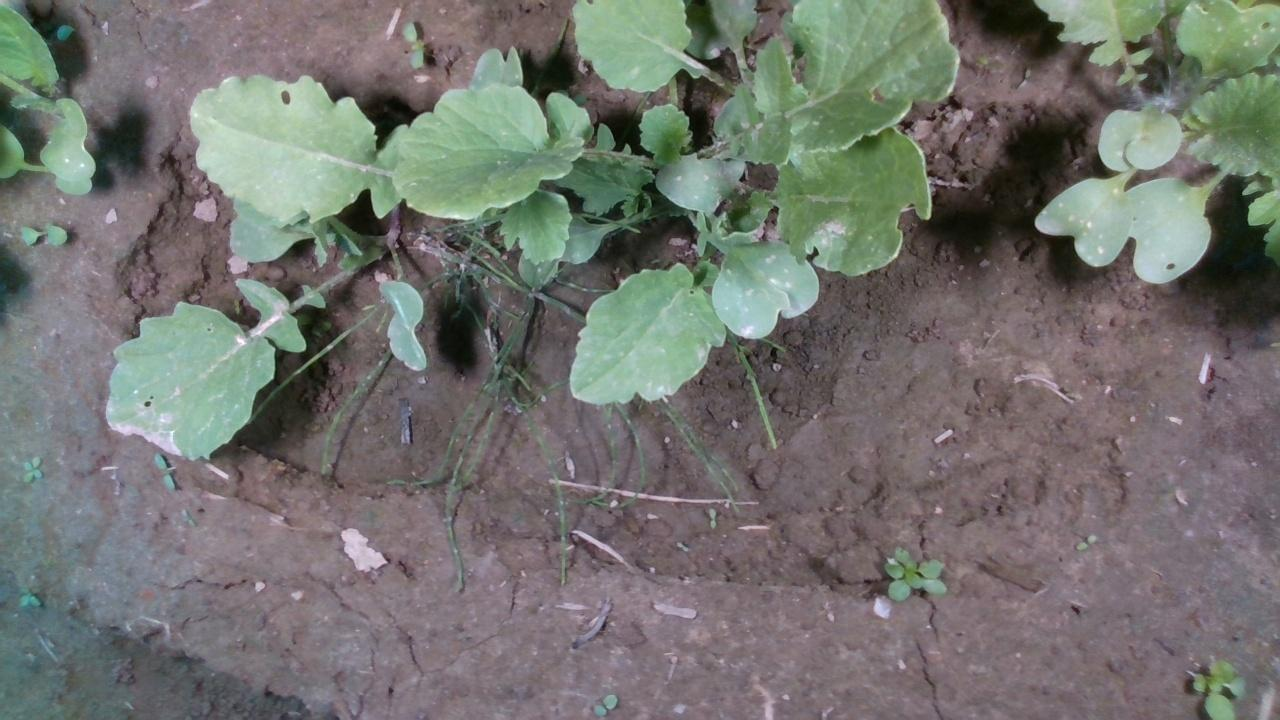weed: (400, 19, 424, 69), (17, 222, 67, 244), (153, 453, 174, 490), (17, 581, 41, 608), (20, 453, 42, 482), (591, 692, 616, 716), (1075, 531, 1096, 550), (706, 504, 716, 529)
